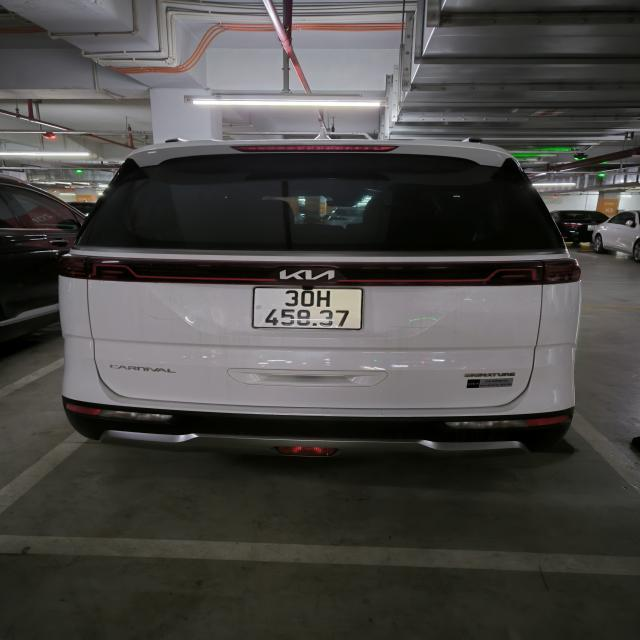license: (251, 285, 362, 330)
